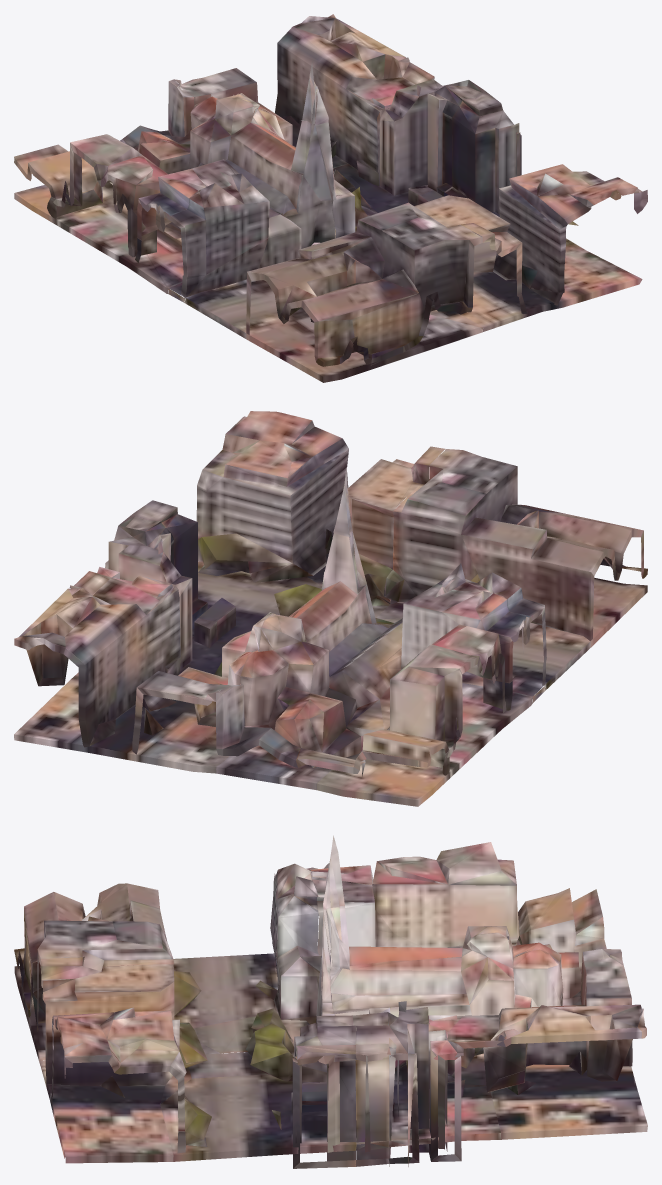
The picture shows the model from 3 angles, top to bottom: view 1: azimuth 30°, elevation 25°; view 2: azimuth 150°, elevation 25°; view 3: azimuth 270°, elevation 25°; orthographic projection. The views are drawn at different scales.
Parts seen in each view (by area): view 1: Mesh_0; view 2: Mesh_0; view 3: Mesh_0.
Part boxes in pixels (bbox=[...]): Mesh_0: bbox=[14, 14, 647, 382]; Mesh_0: bbox=[14, 411, 647, 806]; Mesh_0: bbox=[14, 835, 647, 1168].
Bounding box in the file's own units: 135 × 67.67 × 165.
1 material, 1 textured.
